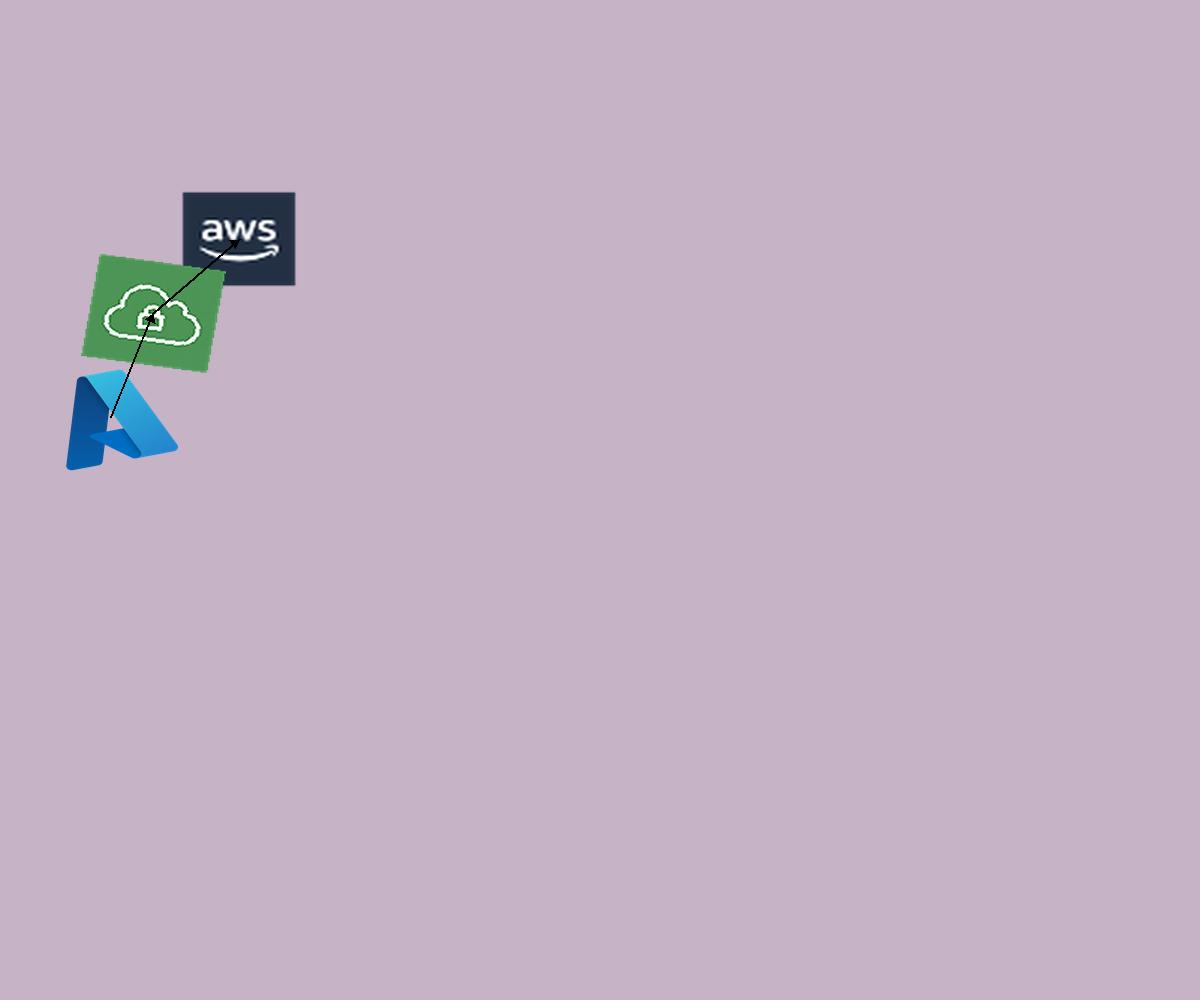AWS-Cloud-logo: (180, 190, 298, 288)
AWS-Private_vpc: (81, 253, 226, 374)
Azure_services: (37, 355, 186, 479)
